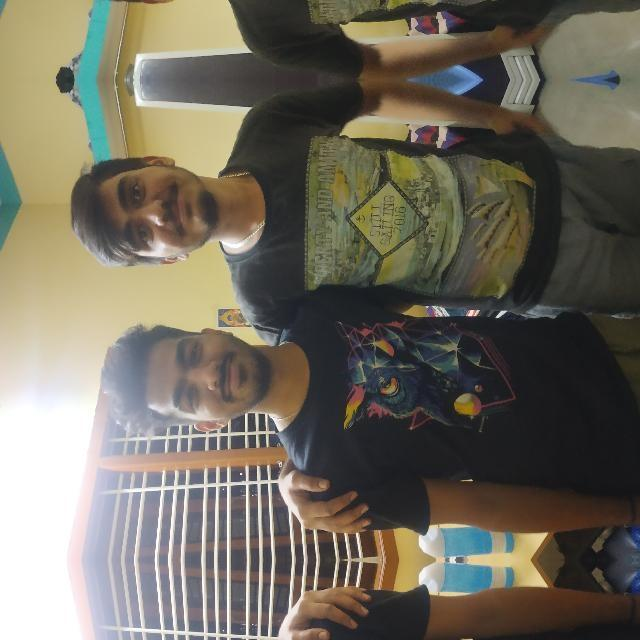person: (242, 136, 480, 640), (26, 162, 254, 640), (242, 400, 480, 640), (26, 400, 254, 640), (242, 0, 480, 24)
